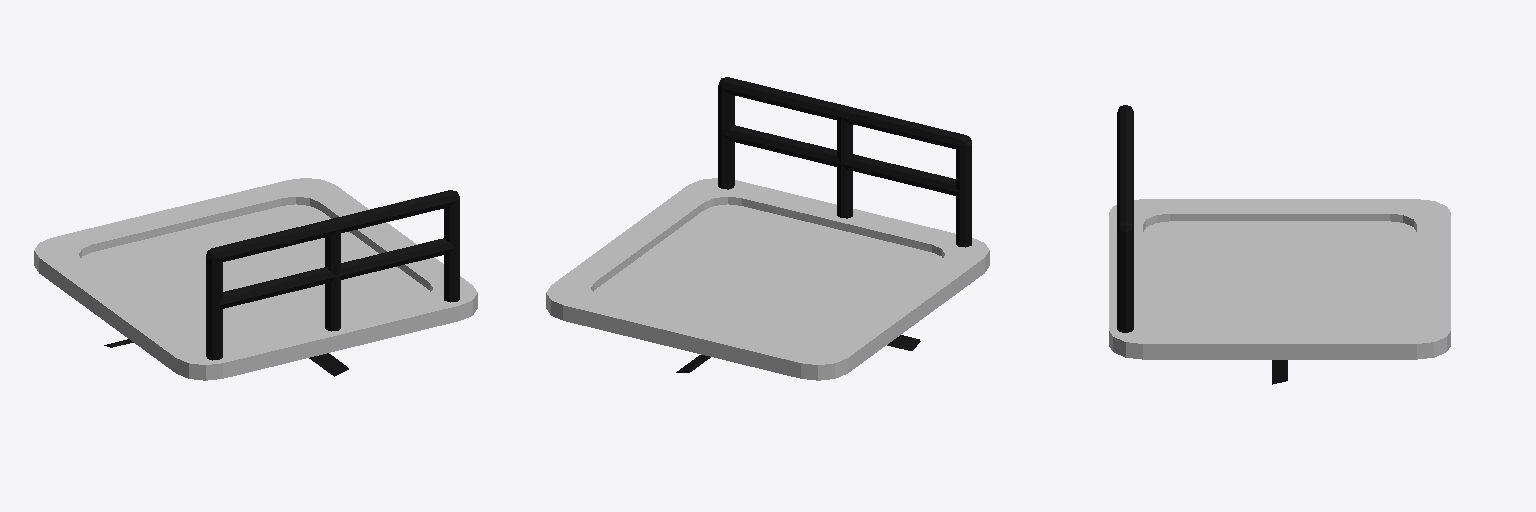
The model's file is floatin-platform.obj.
3 renders of one model, left to right at view 1: azimuth 30°, elevation 25°; view 2: azimuth 150°, elevation 25°; view 3: azimuth 270°, elevation 25°, orthographic.
Visible parts, largest first — view 1: Cube, Cylinder, prop; view 2: Cube, Cylinder, prop; view 3: Cube, Cylinder.
Part boxes in pixels (x1,y1,x2,y2): Cube: (34,178,477,380); Cylinder: (206,190,459,360); prop: (104,339,348,376); Cube: (546,178,989,380); Cylinder: (718,77,971,247); prop: (676,335,920,372); Cube: (1109,199,1450,359); Cylinder: (1117,105,1133,332).
Size of the model in its own units: 2 by 1.2 by 2.